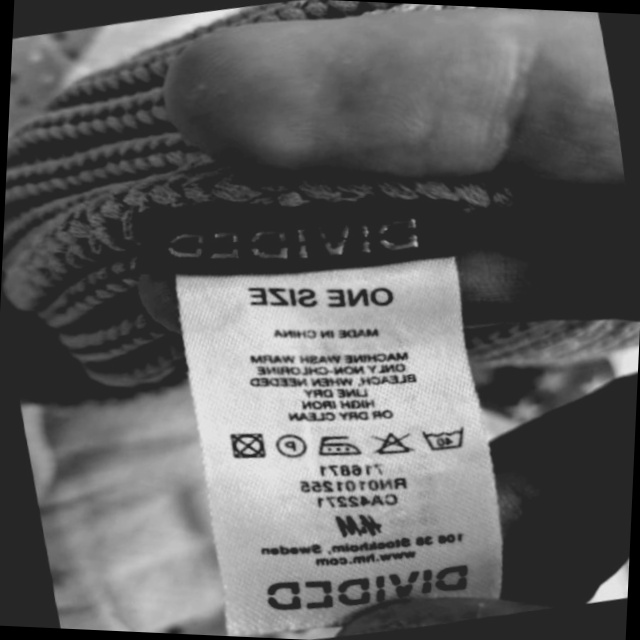40C: (416, 415, 470, 459)
DN_bleach: (367, 422, 415, 462)
DN_tumble_dry: (225, 422, 271, 465)
dry_clean_any_solvent_except_trichloroethylene: (273, 428, 310, 462)
iron_high: (313, 427, 361, 463)
